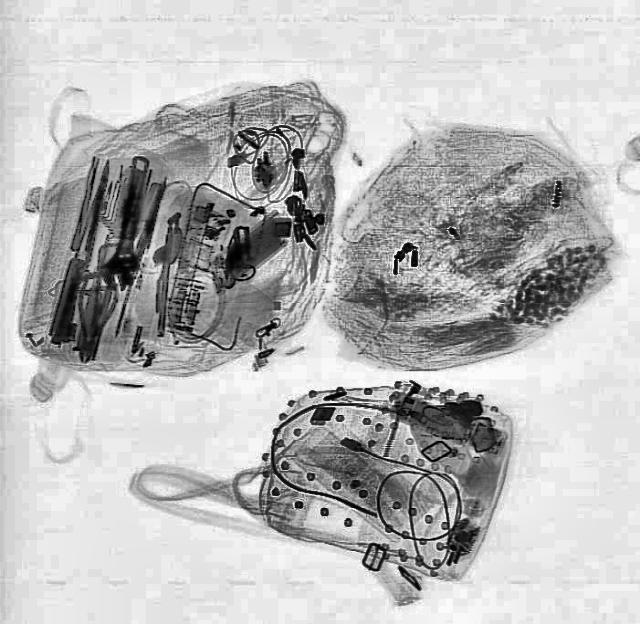Pliers: (61, 272, 119, 365)
Wrench: (95, 154, 163, 294)
